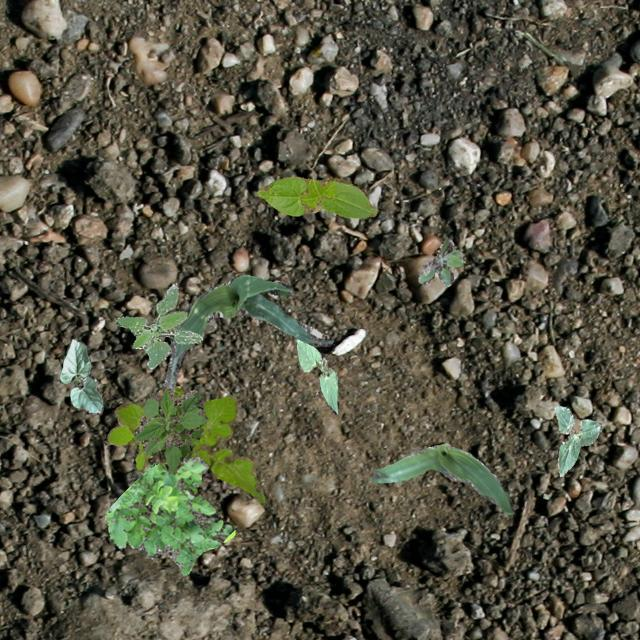crop: (162, 274, 332, 392), (372, 443, 514, 512), (256, 175, 376, 218), (552, 406, 600, 476), (59, 338, 102, 413), (295, 338, 337, 412)
weed: (114, 386, 264, 502), (104, 456, 234, 574), (115, 282, 202, 368), (132, 384, 206, 472), (106, 416, 152, 468), (418, 236, 462, 284)
